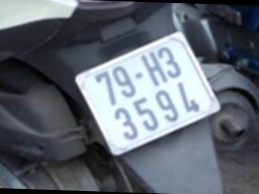Bien-so: (77, 29, 217, 160)
